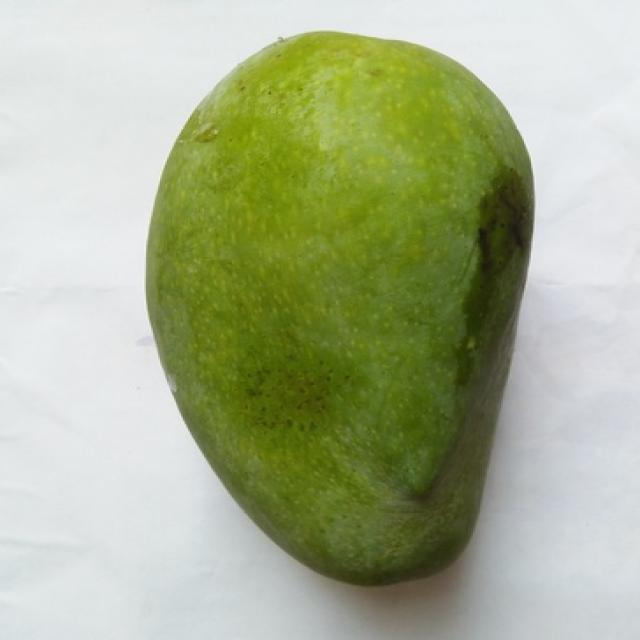Mango: (148, 32, 529, 584)
